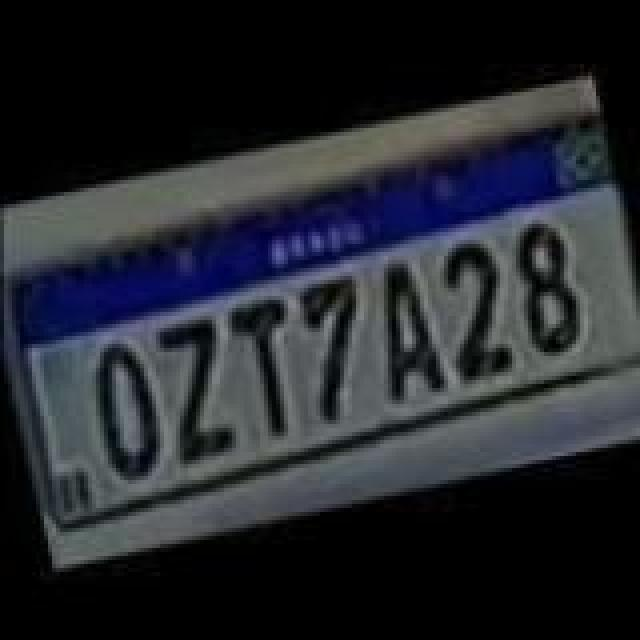2: (414, 230, 526, 378)
7: (278, 270, 382, 422)
8: (490, 212, 602, 364)
A: (350, 252, 454, 404)
O: (72, 336, 176, 488)
T: (212, 288, 320, 436)
Z: (146, 316, 246, 460)
